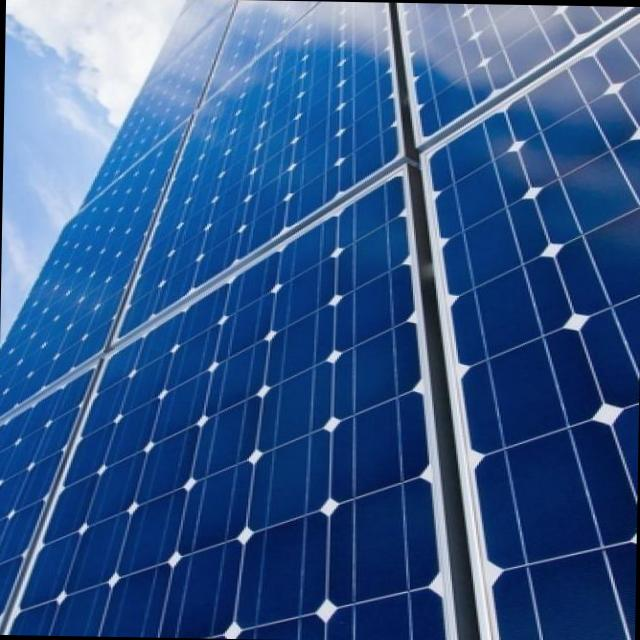no faulty: (102, 9, 640, 640)
